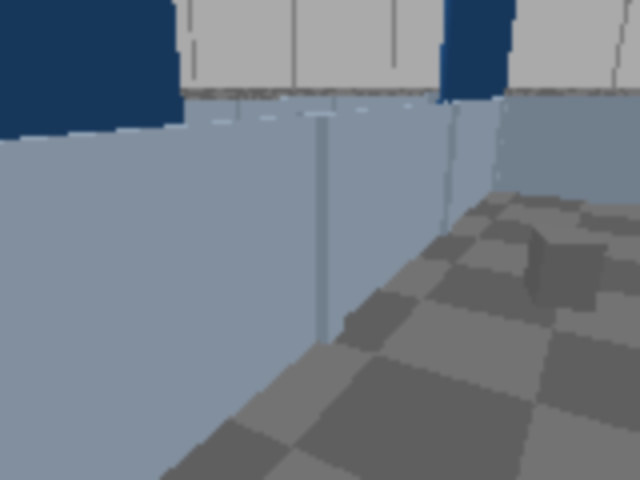obstacle: (524, 225, 607, 312)
person: (0, 0, 173, 390)
